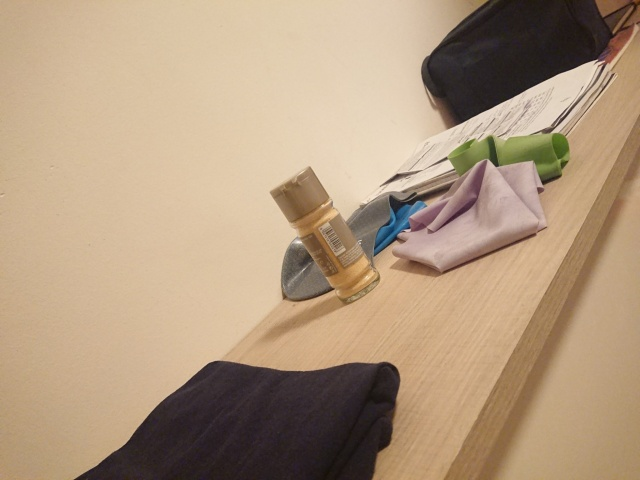Kotanyi Garlic Granules 70g: (267, 163, 382, 306)
